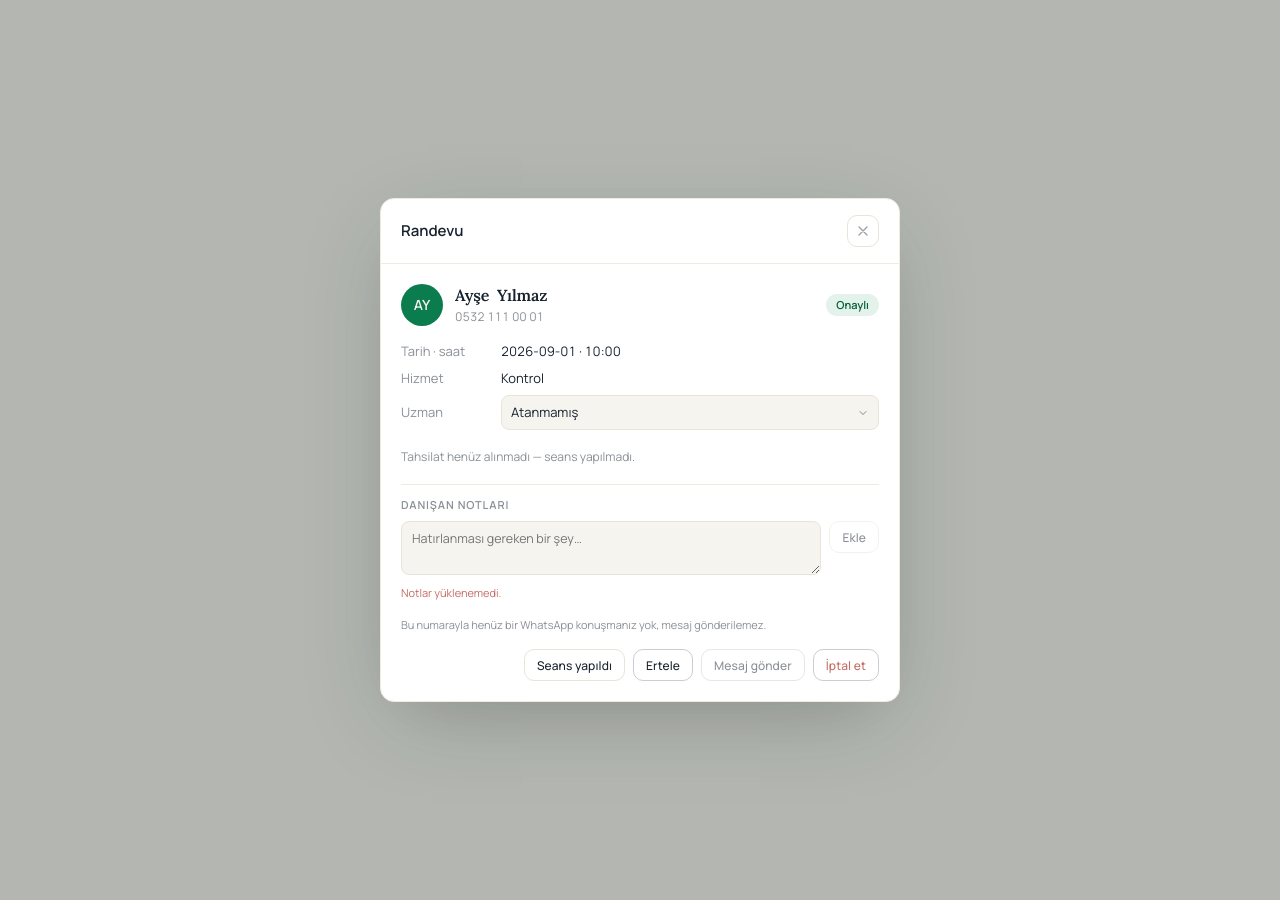
AppointmentDetail — erteleme › vazgeçmek formu kapatıyor ve hiçbir şey göndermiyor
Click the button "Ertele": (663, 665) x1=633 y1=649 x2=693 y2=681
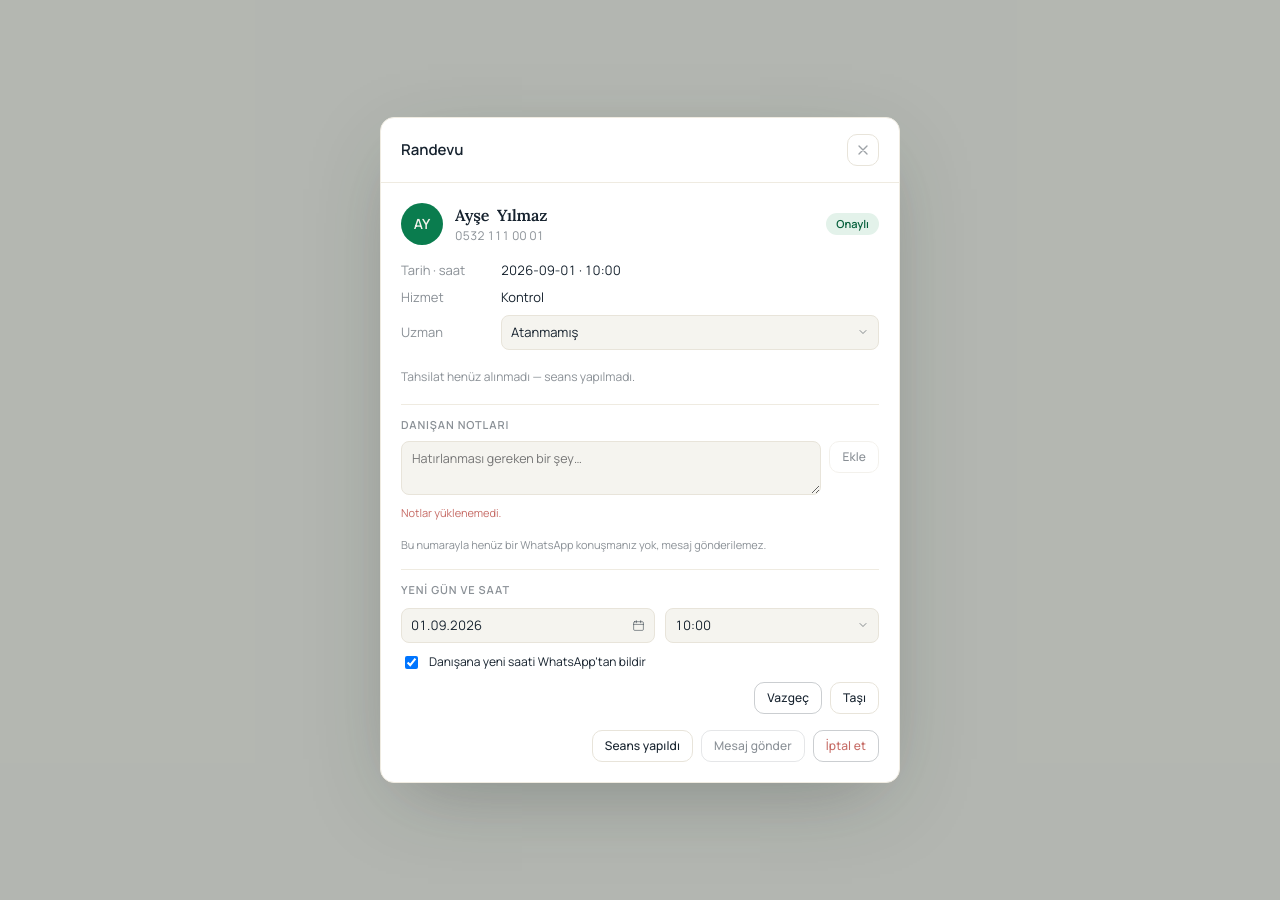
Click the button "Vazgeç": (788, 698) x1=754 y1=682 x2=822 y2=714
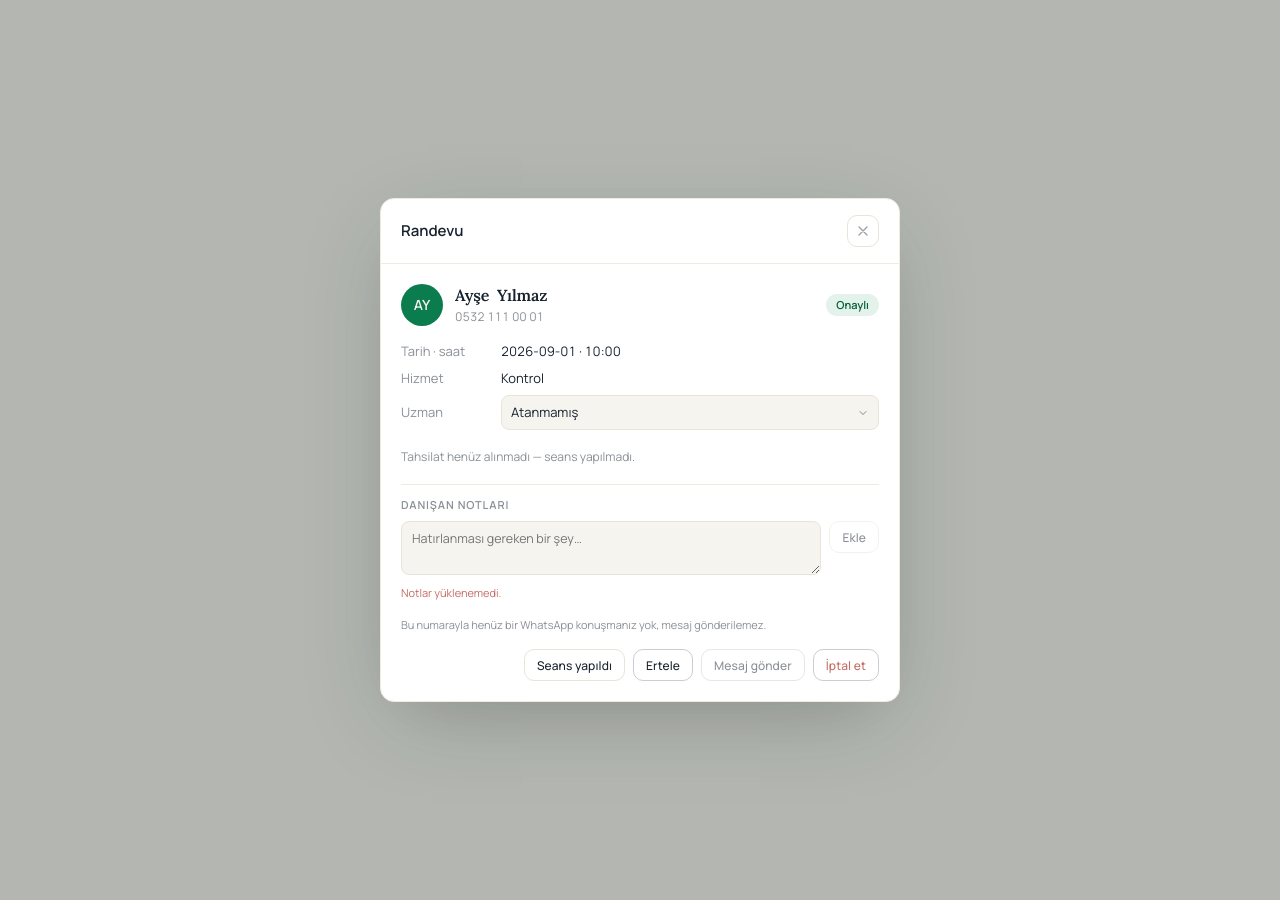
Now the button "Taşı" is gone
